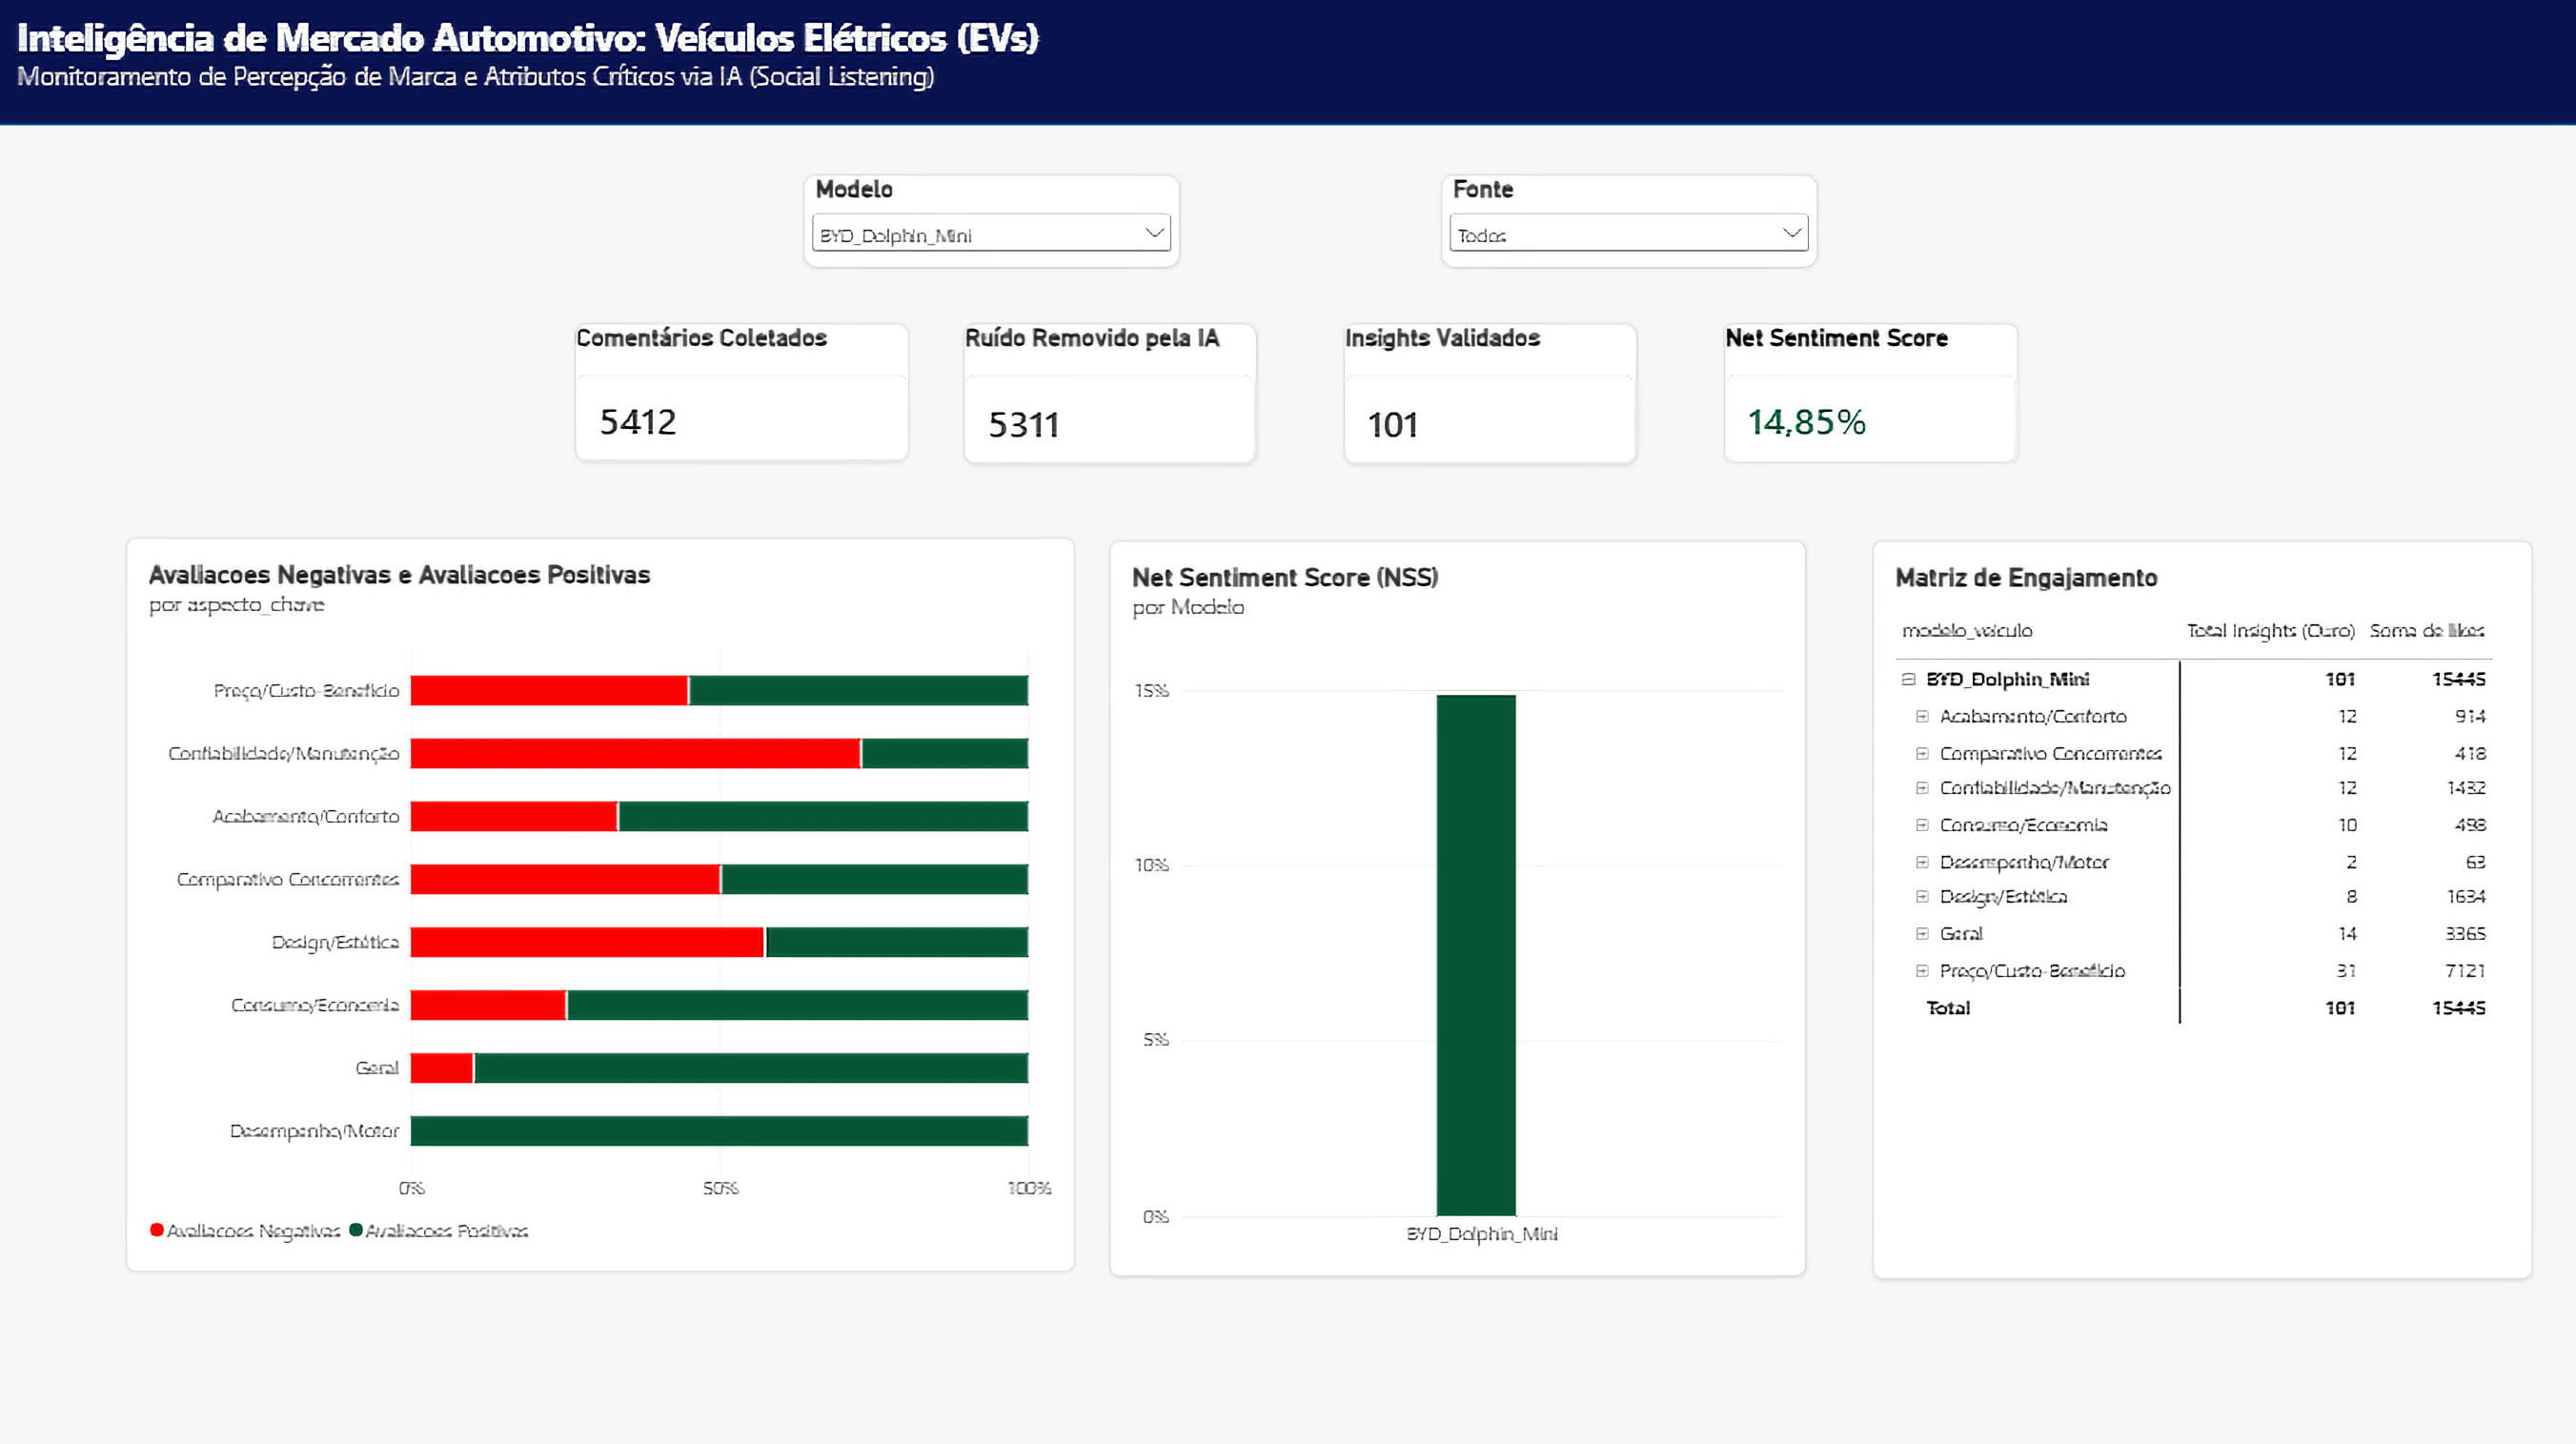

Layout of this report page (visuals, bound fields, positions):
{"tool":"powerbi","page":{"name":"Página 1","canvas":[1920,1080],"ordinal":0},"visuals":[{"type":"shape","box":[0,0,1920,95],"z":0},{"type":"slicer","fields":{"Values":["dModelo.Modelo"]},"box":[25,111,280,68.6],"z":1000},{"type":"slicer","fields":{"Values":["dFonte.Fonte"]},"box":[376,111,280,68.6],"z":2000},{"type":"cardVisual","title":"Comentários Coletados","fields":{"Data":["_Medidas.Total Volume Bruto"]},"box":[48.9,282.8,249.4,103.3],"z":2001},{"type":"cardVisual","title":"Ruído Removido pela IA","fields":{"Data":["_Medidas.Ruido Descartado"]},"box":[355,282.8,217.5,105],"z":2002},{"type":"cardVisual","title":"Insights Validados","fields":{"Data":["_Medidas.Total Insights (Ouro)"]},"box":[633.5,282.8,217.5,105],"z":2003},{"type":"cardVisual","title":"Net Sentiment Score","fields":{"Data":["_Medidas.Net Sentiment Score (NSS)"]},"box":[916.3,282.8,219,104.2],"z":2004},{"type":"donutChart","fields":{"Y":["_Medidas.Ruido Descartado","_Medidas.Total Insights (Ouro)"]},"box":[48.9,433.7,496.4,340.2],"z":2005},{"type":"hundredPercentStackedBarChart","fields":{"Category":["fAvaliacoes.aspecto_chave"],"Y":["_Medidas.Avaliacoes Negativas","_Medidas.Avaliacoes Positivas"]},"box":[608,433.7,705.5,370.4],"z":2006},{"type":"pivotTable","fields":{"Rows":["fAvaliacoes.modelo_veiculo","fAvaliacoes.aspecto_chave","fAvaliacoes.resumo_insight"],"Values":["Sum(fAvaliacoes.likes)"]},"box":[95.7,803.6,297.6,233.9],"z":2008},{"type":"clusteredColumnChart","fields":{"Category":["dModelo.Modelo"],"Y":["_Medidas.Net Sentiment Score (NSS)"]},"box":[1362.8,433.7,518.7,646.3],"z":2009}]}

Visuals, with their boxes in screenshot pixels (x1, y1, x2, y2), scaled from the page's 1920x1080 canvas onto the 2576x1444 screenshot:
shape: <region>0, 0, 2575, 127</region>
slicer - dModelo.Modelo: <region>33, 149, 409, 240</region>
slicer - dFonte.Fonte: <region>504, 149, 881, 240</region>
"Comentários Coletados" cardVisual: <region>66, 378, 400, 517</region>
"Ruído Removido pela IA" cardVisual: <region>477, 378, 768, 519</region>
"Insights Validados" cardVisual: <region>850, 378, 1142, 519</region>
"Net Sentiment Score" cardVisual: <region>1229, 378, 1523, 518</region>
donutChart - _Medidas.Ruido Descartado x _Medidas.Total Insights (Ouro): <region>66, 580, 732, 1035</region>
hundredPercentStackedBarChart - fAvaliacoes.aspecto_chave x _Medidas.Avaliacoes Negativas: <region>816, 580, 1762, 1075</region>
pivotTable - fAvaliacoes.modelo_veiculo x fAvaliacoes.aspecto_chave: <region>129, 1074, 528, 1387</region>
clusteredColumnChart - dModelo.Modelo x _Medidas.Net Sentiment Score (NSS): <region>1829, 580, 2525, 1443</region>
